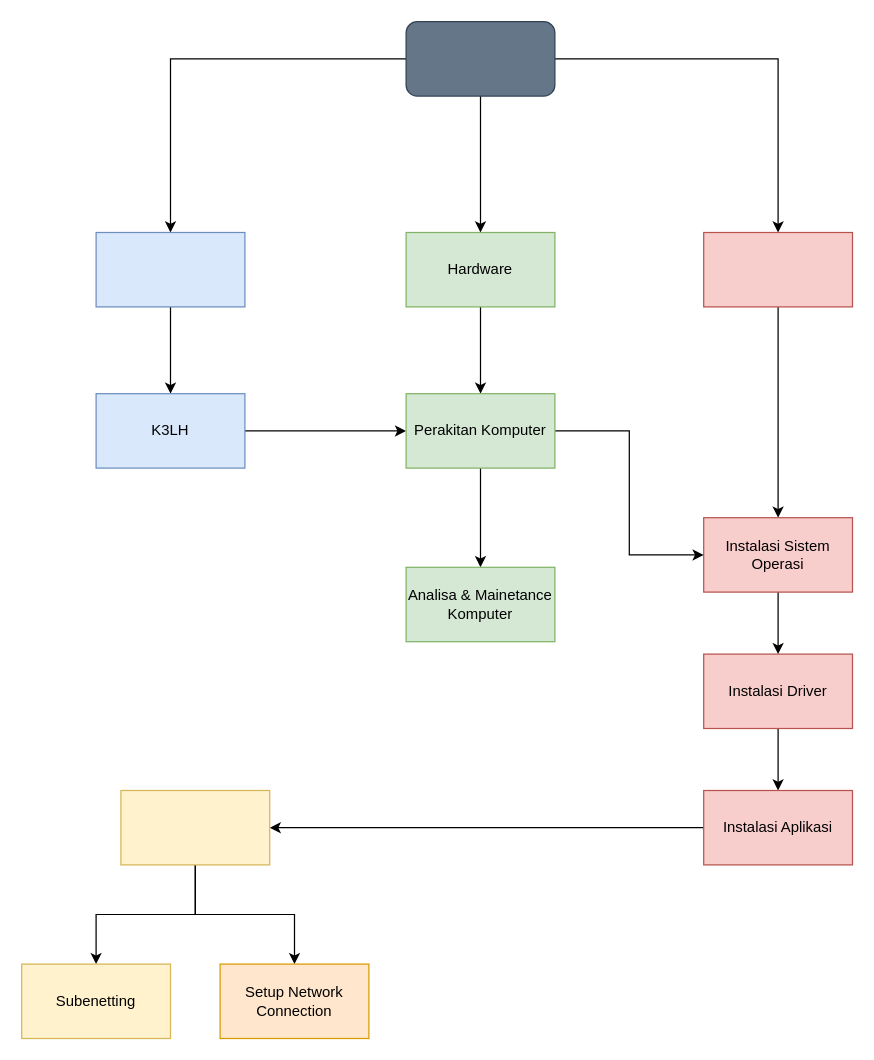
Image size: 874x1060. Some labels were removed from this diagram. The shapes that lost their labels are listed below. From the top down, each one's box as (x1, y1, x2, y2) in pixels, then its label:
(405, 20, 555, 96): Komputer dan Jaringan Dasar
(95, 231, 245, 307): Brainware
(702, 231, 852, 307): Software
(120, 789, 270, 865): IP Addressing
